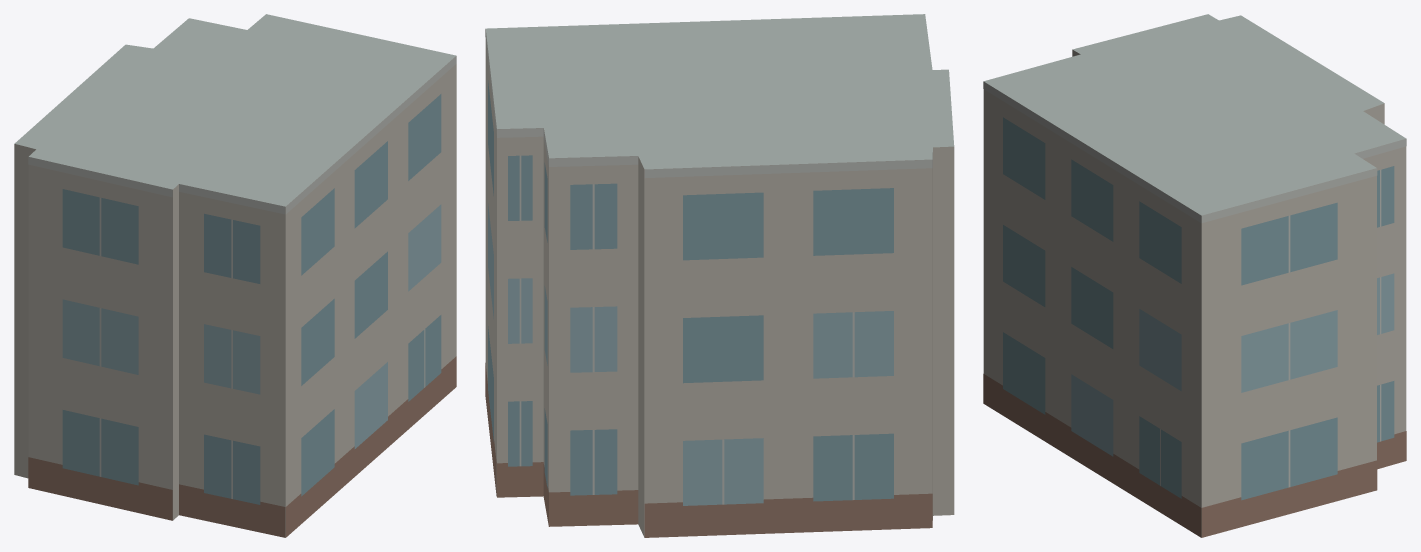
File: survey-upis-32734416.glb
3 renders of one model, left to right at view 1: azimuth 30°, elevation 25°; view 2: azimuth 150°, elevation 25°; view 3: azimuth 270°, elevation 25°, orthographic. The views are drawn at different scales.
Visible parts, largest first — view 1: survey-upis-32734416.tmp; view 2: survey-upis-32734416.tmp; view 3: survey-upis-32734416.tmp.
Boxes of the visible parts, <box> form: survey-upis-32734416.tmp: <box>14,14,456,537</box>; survey-upis-32734416.tmp: <box>485,14,954,537</box>; survey-upis-32734416.tmp: <box>983,14,1406,537</box>.
Size of the model in its own units: 13.76 by 10.25 by 12.2.
